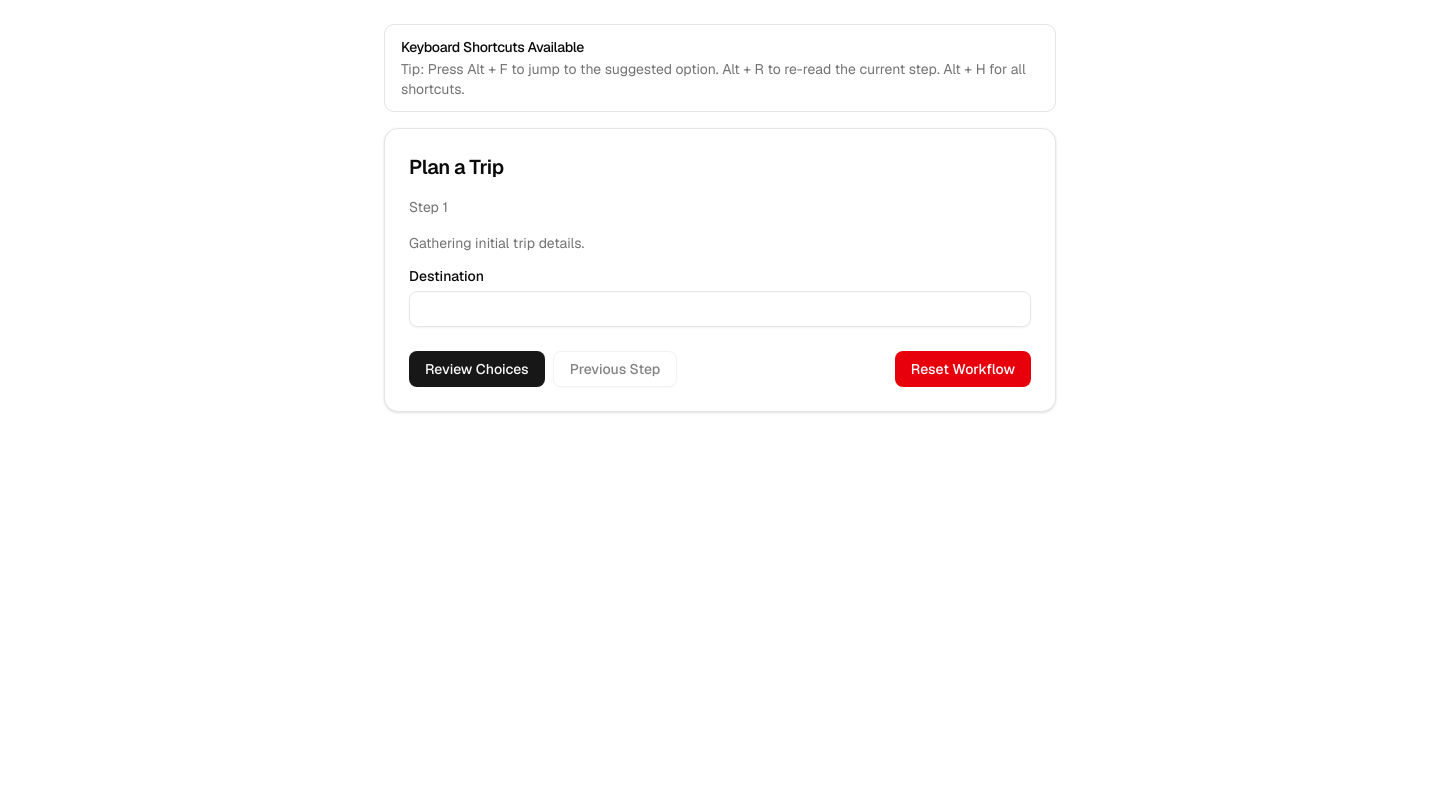
WorkflowStepContainer › Safe Mode › dialog shows the selected values
Type "Tokyo" into the field labelled "Destination" at {"x": 720, "y": 309}, box [409,291,1031,327]
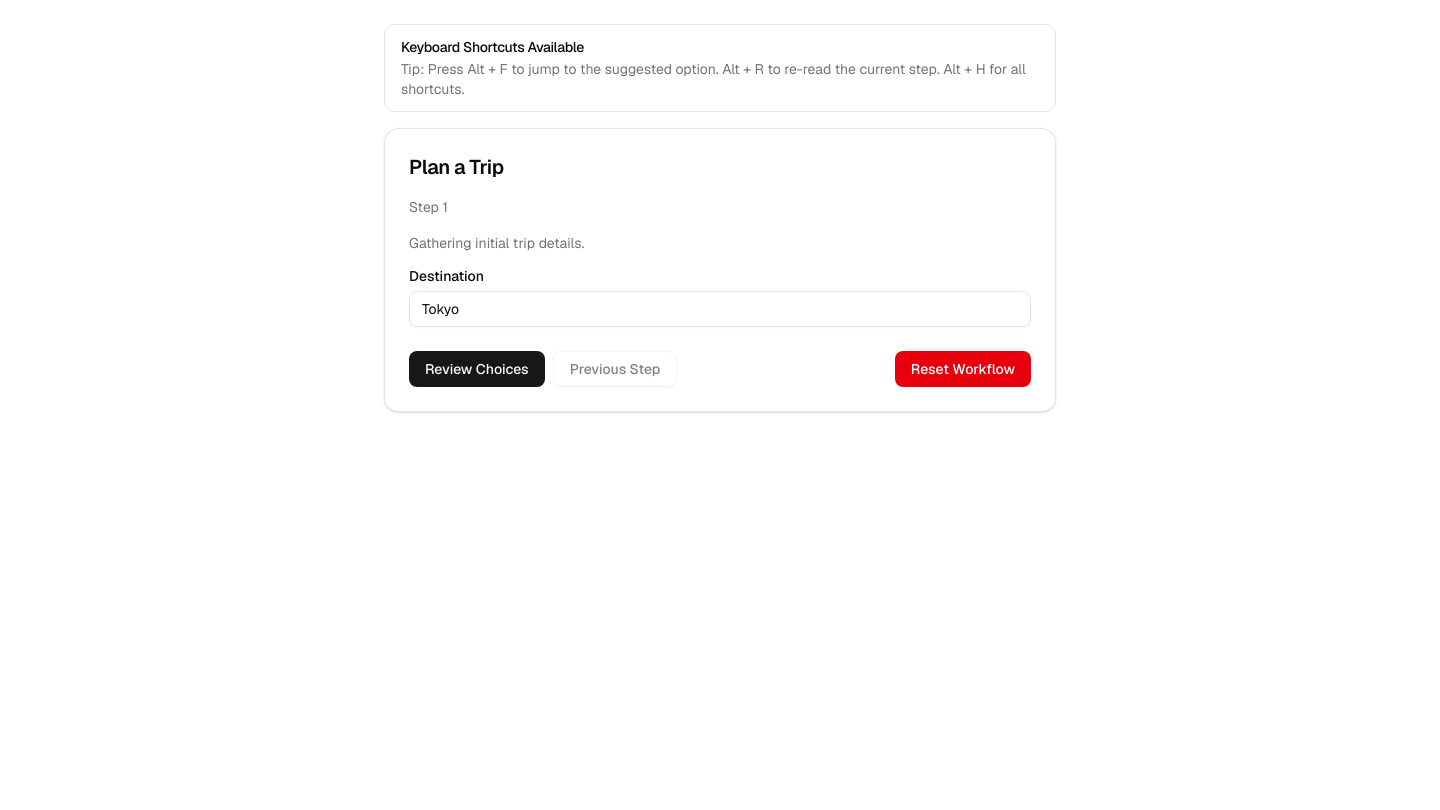
Click the button "Review Choices" at {"x": 477, "y": 369}, box [409,351,545,387]
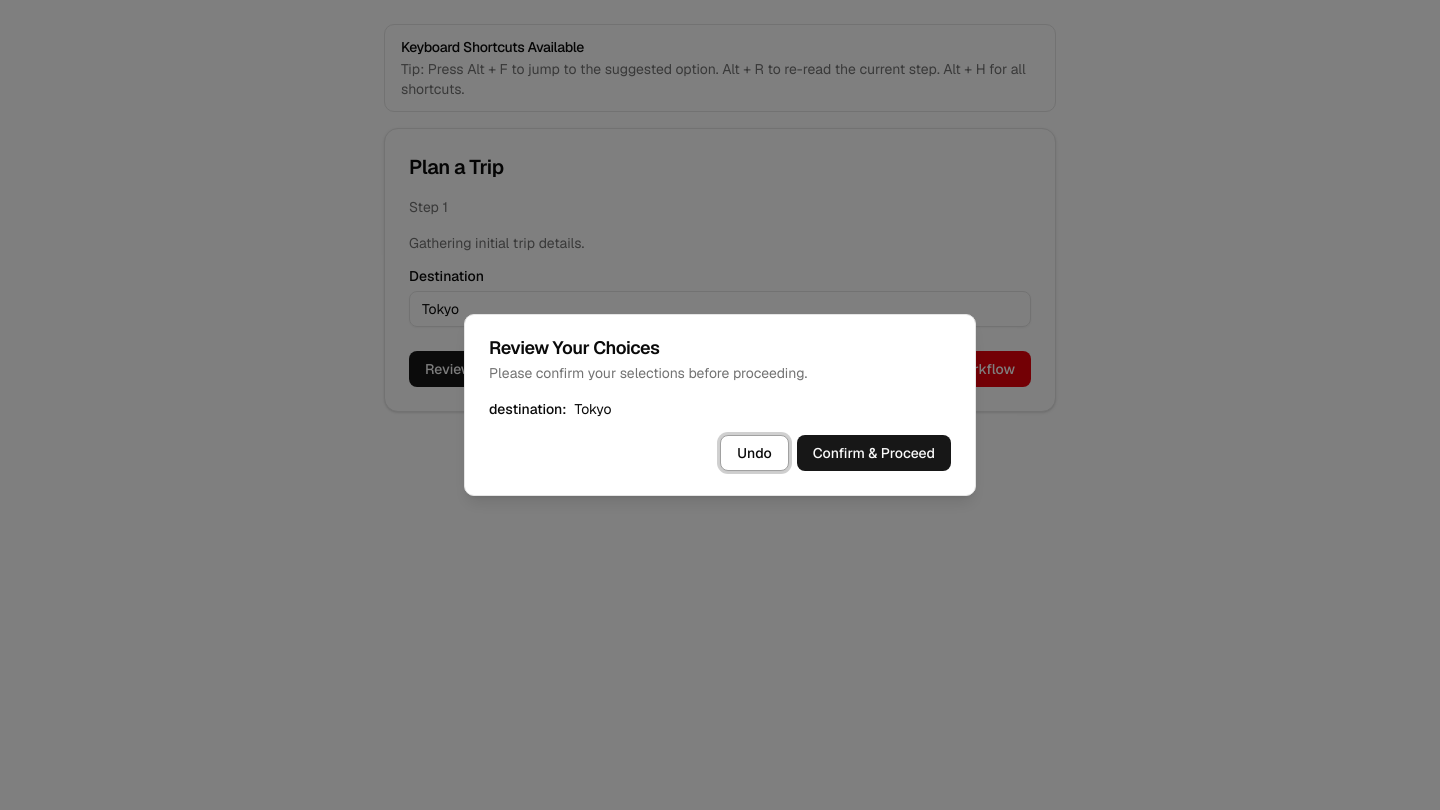
Result: the text "Tokyo" is shown at [575,399,612,419]
